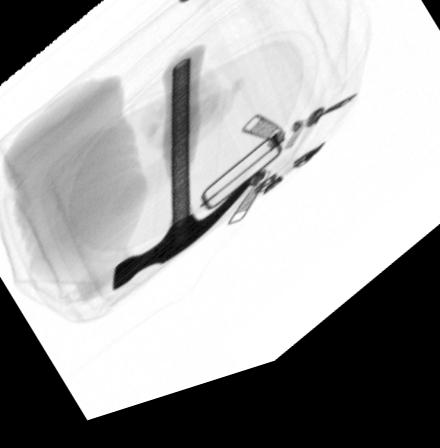Hammer: (110, 58, 253, 298)
